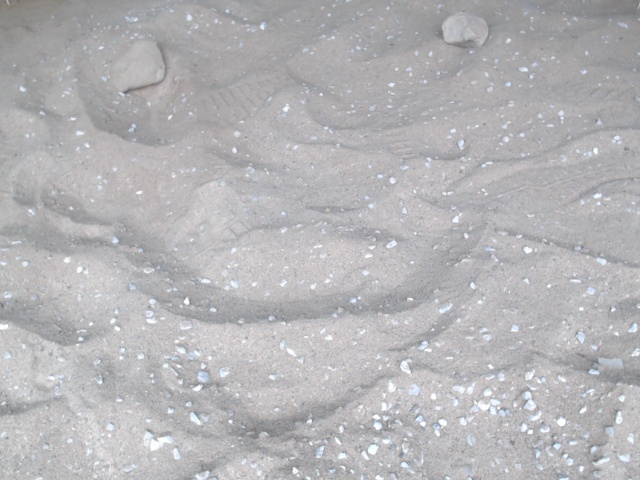rock: (105, 34, 171, 98), (437, 7, 492, 52)
